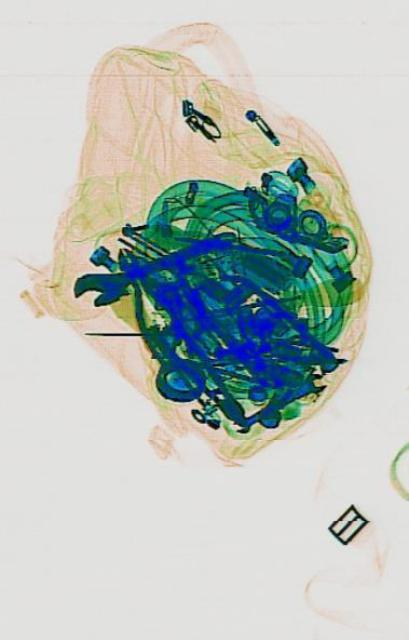Pliers: (145, 300, 246, 432), (103, 229, 193, 371)
Wrench: (69, 212, 238, 316), (230, 364, 326, 440)
